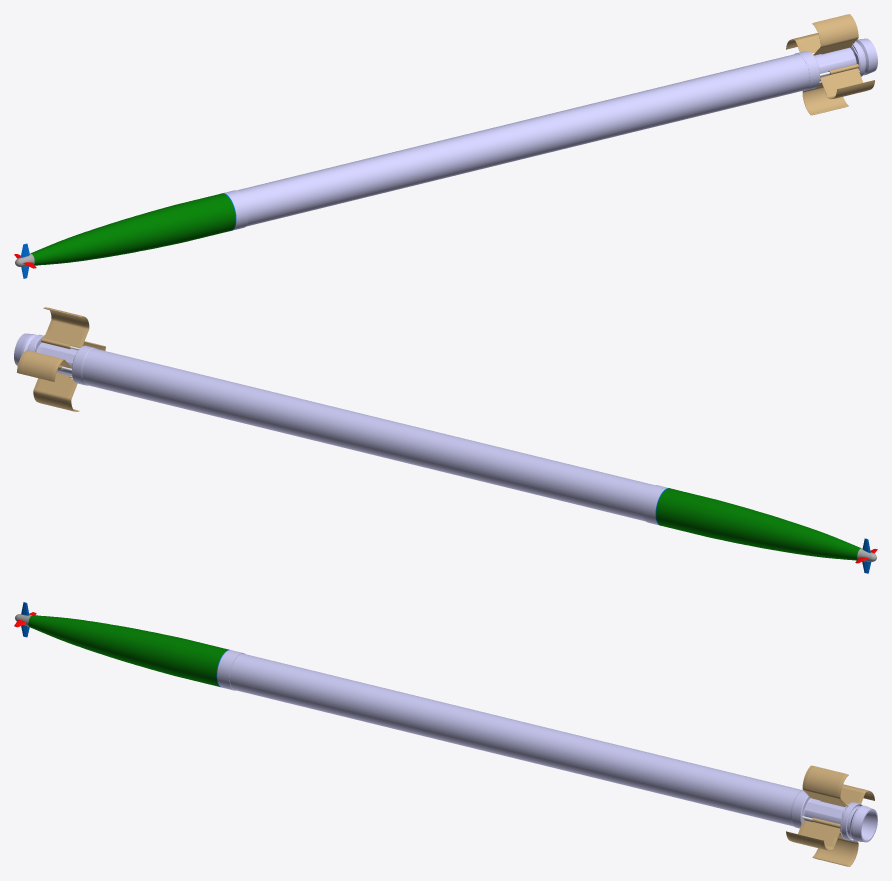
The model's file is CP30M_STD_2024_DS V_5_Comp.glb.
The picture shows the model from 3 angles, top to bottom: view 1: azimuth 30°, elevation 25°; view 2: azimuth 150°, elevation 25°; view 3: azimuth 330°, elevation 25°; orthographic projection.
Visible parts, largest first — view 1: CP30M_Body_Tail; view 2: CP30M_Body_Tail; view 3: CP30M_Body_Tail.
Part boxes in pixels (x1=…): CP30M_Body_Tail: x1=31, y1=14, x2=877, y2=265; CP30M_Body_Tail: x1=14, y1=307, x2=860, y2=560; CP30M_Body_Tail: x1=28, y1=615, x2=877, y2=866.
Bounding box in the file's own units: 3.24 × 0.3386 × 0.3386.
